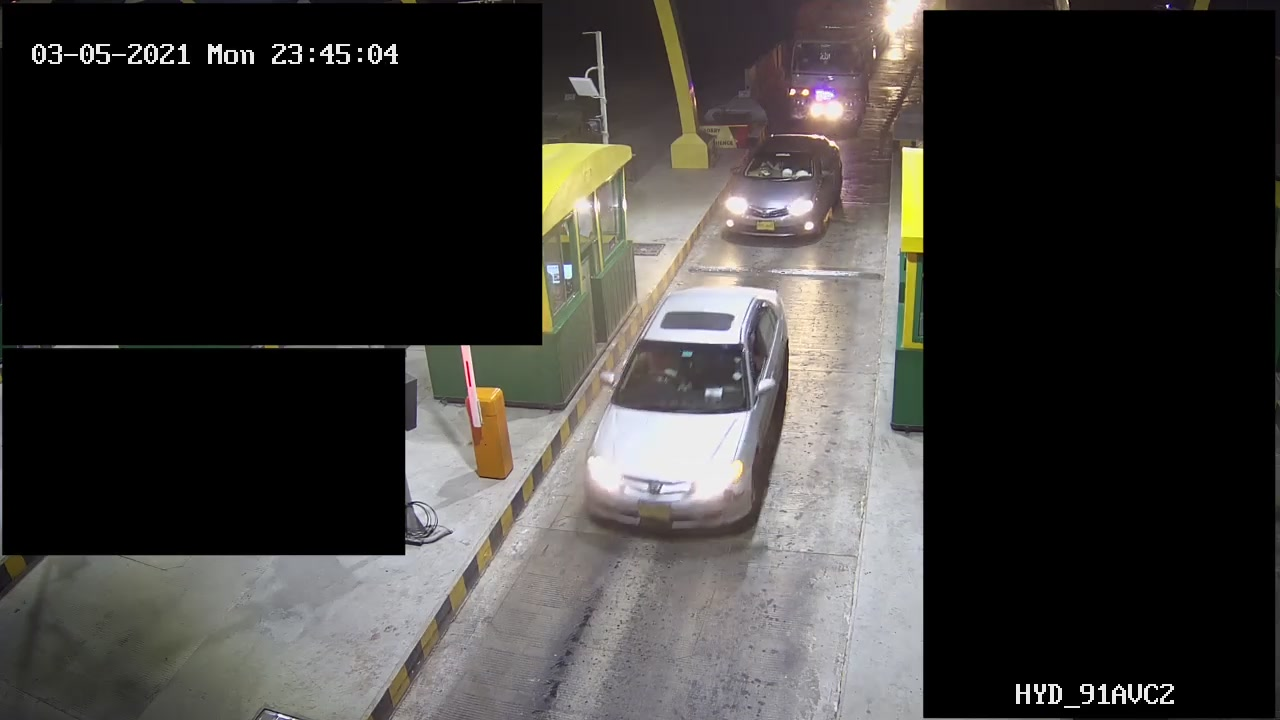F1: (574, 263, 808, 551)
